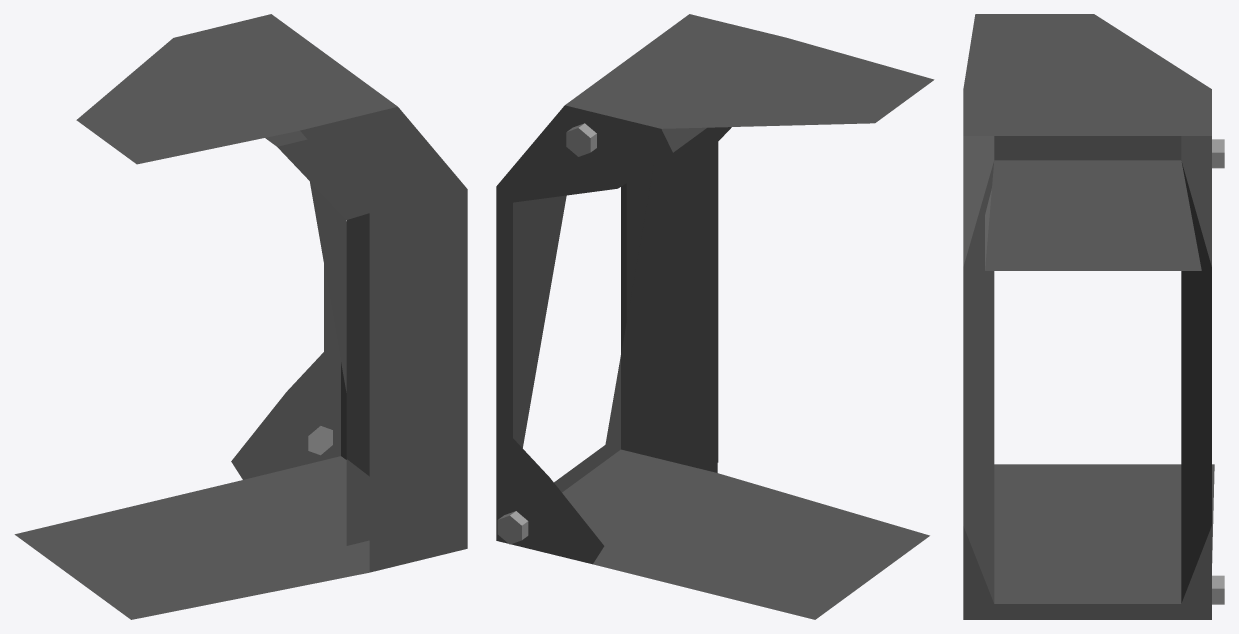
Rendered from HarpoonShelter-flipped.fbx.
The picture shows the model from 3 angles, left to right: view 1: azimuth 30°, elevation 25°; view 2: azimuth 150°, elevation 25°; view 3: azimuth 270°, elevation 25°; orthographic projection.
Visible parts, largest first — view 1: HarpoonShelter.Flipped; view 2: HarpoonShelter.Flipped; view 3: HarpoonShelter.Flipped.
Boxes of the visible parts, box(x1,y1,x2,y2) form: HarpoonShelter.Flipped: box(14, 14, 467, 619); HarpoonShelter.Flipped: box(496, 14, 934, 619); HarpoonShelter.Flipped: box(963, 14, 1224, 619).
Size of the model in its own units: 2.97 by 4 by 2.1.
